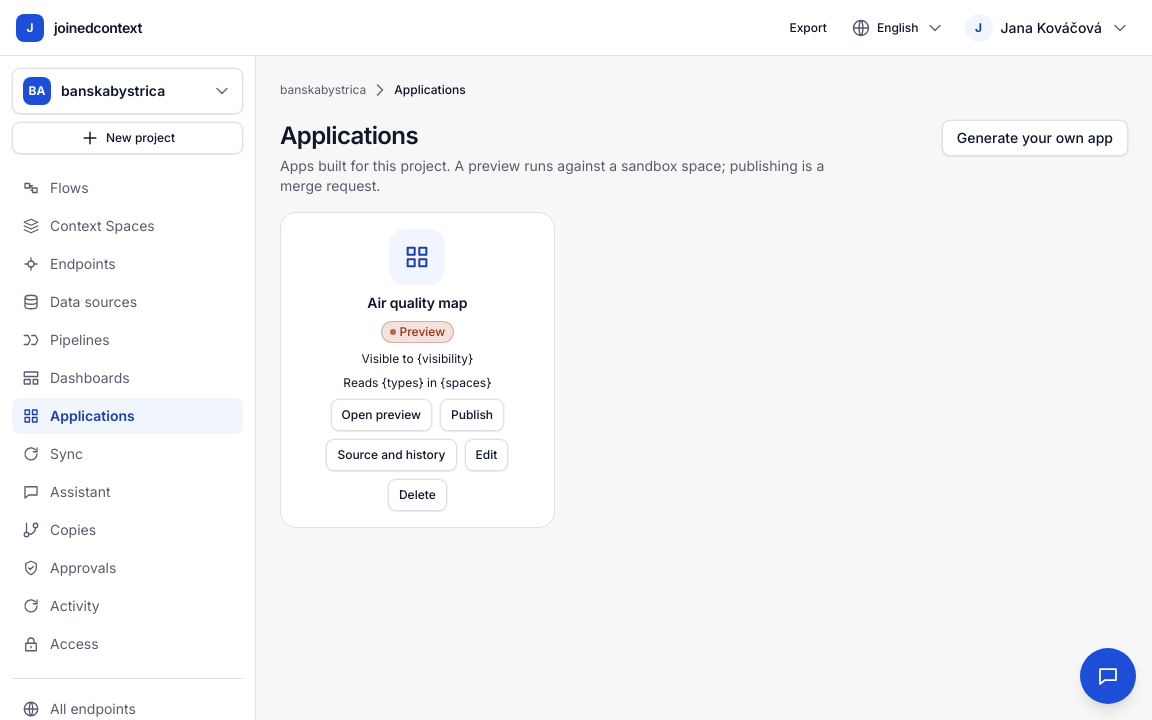
Test case: apps catalog › cancelling the publication sends nothing
Click the button "Publish" at (472, 415), box [440,399,504,431]
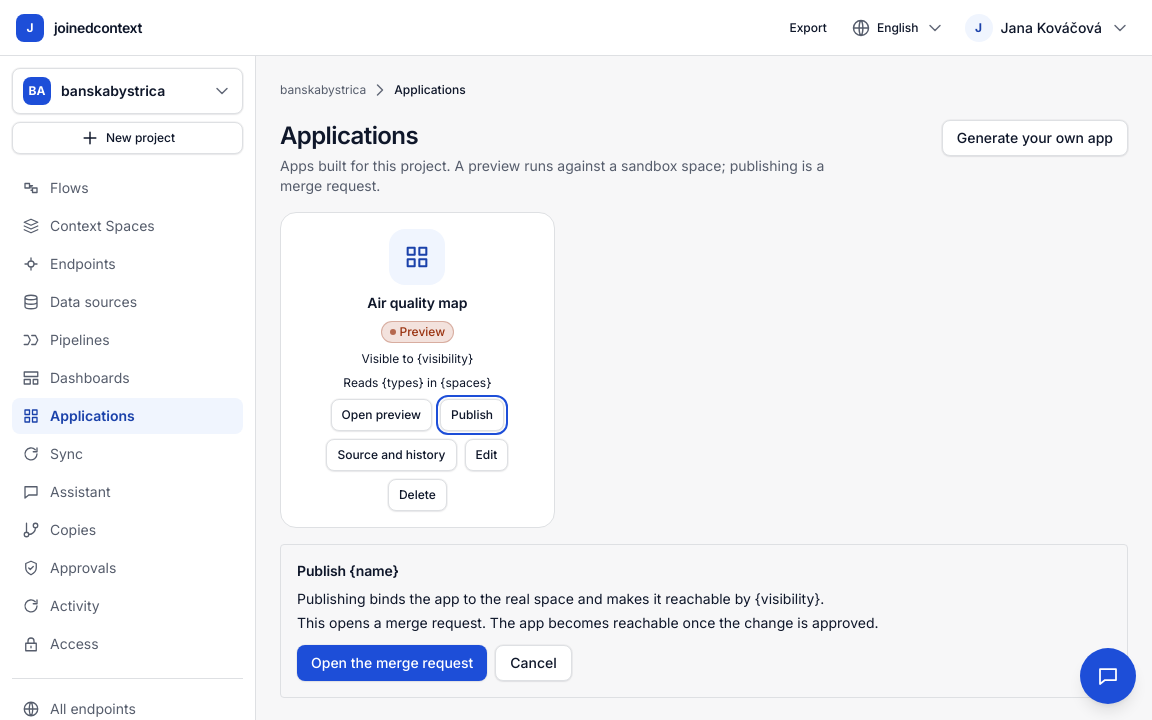
Click the button "Cancel" at (534, 663), box [495,645,572,681]
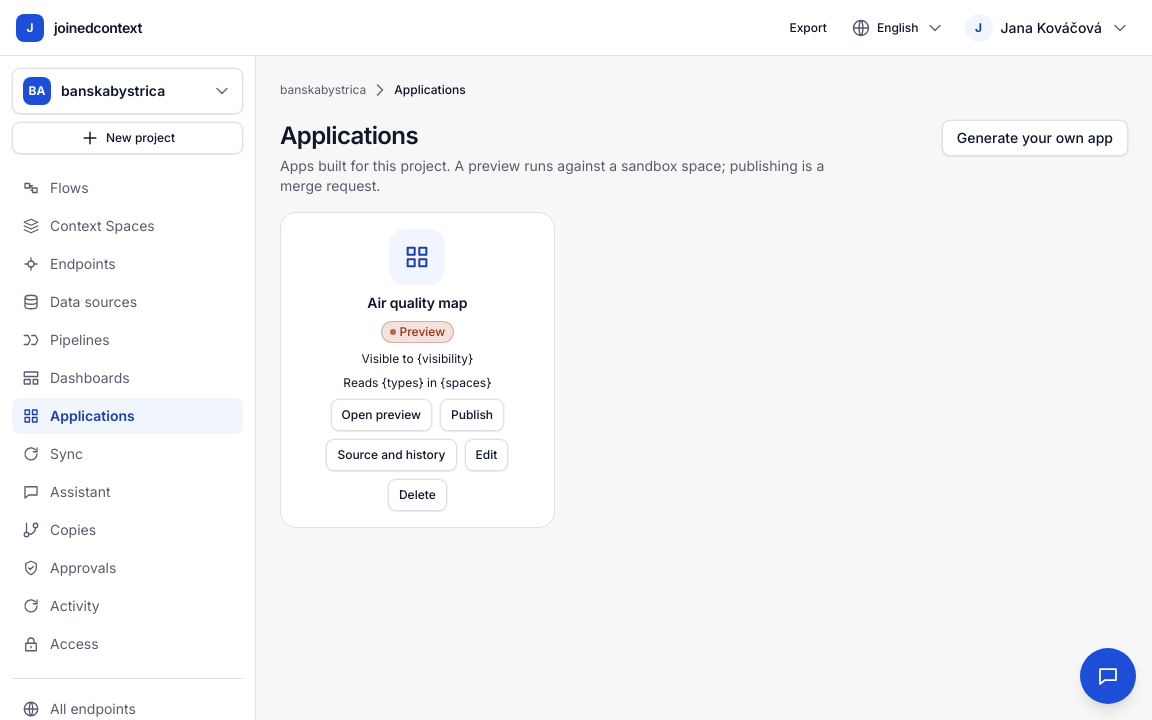
Check: the dialog is gone
